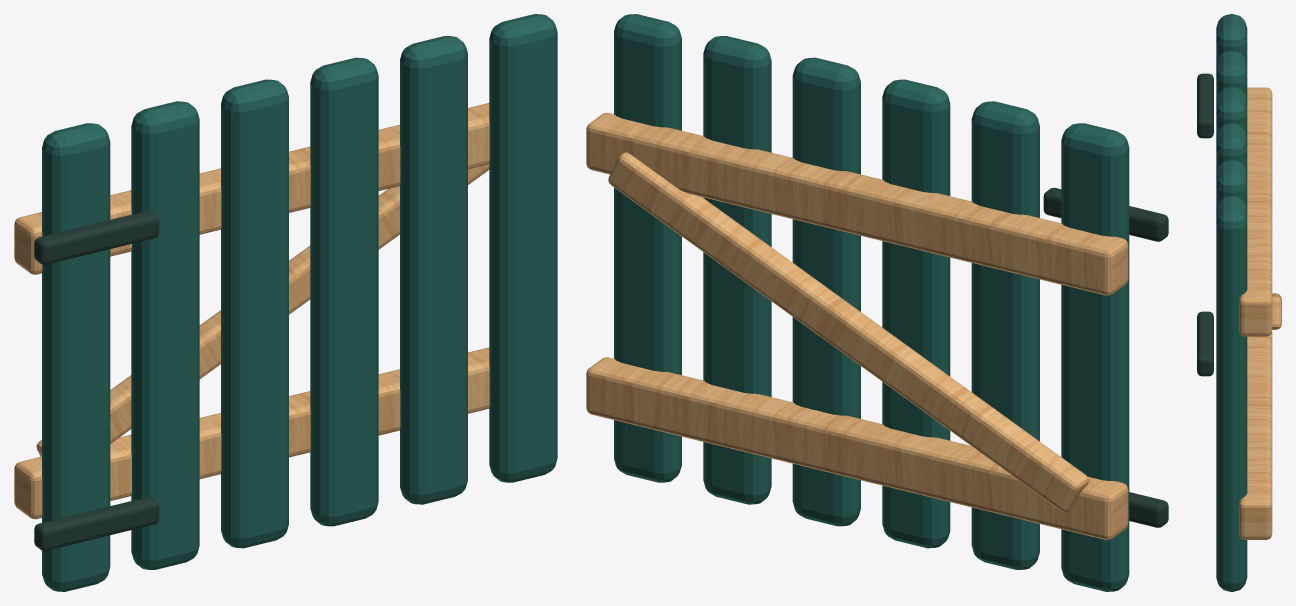
The model's file is gate_leaf.glb.
3 renders of one model, left to right at view 1: azimuth 30°, elevation 25°; view 2: azimuth 150°, elevation 25°; view 3: azimuth 270°, elevation 25°, orthographic. The views are drawn at different scales.
Parts seen in each view (by area): view 1: Gate slat.003, Gate slat.005, Gate slat.002, Gate slat.004, Gate slat.001, Gate slat, Gate crossbar, Gate crossbar.001, Gate diagonal, Hinge strap.001, Hinge strap; view 2: Gate crossbar.001, Gate crossbar, Gate diagonal, Gate slat, Gate slat.005, Gate slat.001, Gate slat.002, Gate slat.004, Gate slat.003, Hinge strap.001, Hinge strap; view 3: Gate slat.005, Gate crossbar.001, Gate crossbar, Gate slat.004, Gate slat.001, Gate slat.002, Gate slat, Gate slat.003, Hinge strap, Hinge strap.001, Gate diagonal.
Boxes of the visible parts, x1=… form: Gate slat.003: x1=310, y1=57, x2=378, y2=526; Gate slat.005: x1=489, y1=14, x2=557, y2=482; Gate slat.002: x1=221, y1=79, x2=288, y2=548; Gate slat.004: x1=400, y1=36, x2=467, y2=504; Gate slat.001: x1=131, y1=101, x2=199, y2=569; Gate slat: x1=42, y1=123, x2=110, y2=591; Gate crossbar: x1=14, y1=347, x2=489, y2=519; Gate crossbar.001: x1=14, y1=103, x2=489, y2=274; Gate diagonal: x1=36, y1=164, x2=489, y2=456; Hinge strap.001: x1=34, y1=211, x2=159, y2=264; Hinge strap: x1=34, y1=497, x2=159, y2=550; Gate crossbar.001: x1=586, y1=112, x2=1128, y2=295; Gate crossbar: x1=586, y1=357, x2=1128, y2=540; Gate diagonal: x1=608, y1=152, x2=1088, y2=512; Gate slat: x1=1061, y1=123, x2=1129, y2=591; Gate slat.005: x1=614, y1=14, x2=681, y2=482; Gate slat.001: x1=971, y1=101, x2=1039, y2=569; Gate slat.002: x1=882, y1=79, x2=950, y2=548; Gate slat.004: x1=703, y1=36, x2=771, y2=504; Gate slat.003: x1=792, y1=57, x2=860, y2=526; Hinge strap.001: x1=1043, y1=187, x2=1168, y2=241; Hinge strap: x1=1129, y1=492, x2=1168, y2=527; Gate slat.005: x1=1216, y1=195, x2=1247, y2=591; Gate crossbar.001: x1=1239, y1=87, x2=1272, y2=336; Gate crossbar: x1=1239, y1=331, x2=1272, y2=539; Gate slat.004: x1=1216, y1=159, x2=1247, y2=209; Gate slat.001: x1=1216, y1=50, x2=1247, y2=100; Gate slat.002: x1=1216, y1=86, x2=1247, y2=136; Gate slat: x1=1216, y1=14, x2=1247, y2=63; Gate slat.003: x1=1216, y1=123, x2=1247, y2=172; Hinge strap: x1=1197, y1=311, x2=1213, y2=376; Hinge strap.001: x1=1197, y1=73, x2=1213, y2=138; Gate diagonal: x1=1272, y1=293, x2=1281, y2=329.
Size of the model in its own units: 1.09 by 0.88 by 0.1775.
Materials: 3 (1 with a texture image).
